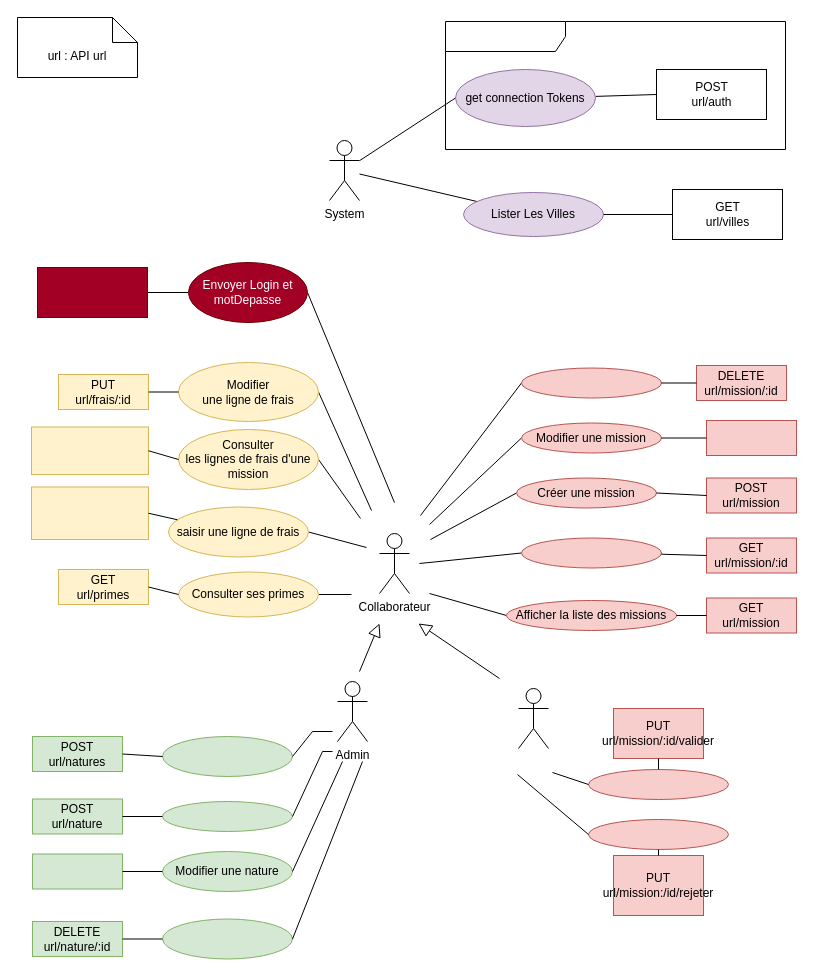
Some shapes in this 814 by 977 pixel diagram are drawn without their labels. The shapes that lost their labels are listed below. From the top down, each one's centre as x and y in pixels, then its label:
At (615,85): "Deprecated".
At (92,292): "Post url/login".
At (591,382): "Supprimer une mission".
At (89,450): "GET url/mission/:id/frais".
At (751,438): "PUT url/mission/:id".
At (89,513): "POST url/mission/:id/frais".
At (591,552): "Afficher une mission".
At (533,718): "Manager".
At (227,756): "Lister les natures".
At (658,784): "Valider une mission".
At (227,816): "Créer une nature".
At (658,834): "Rejeter une mission".
At (77,871): "PUT url/nature/:id".
At (227,938): "Supprimer une nature".
